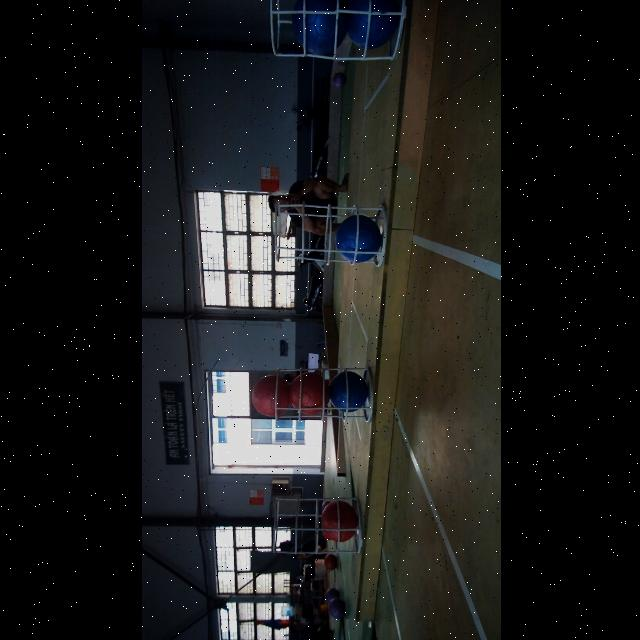B: (334, 215, 381, 263), (327, 372, 367, 412)
R: (249, 375, 289, 417), (290, 372, 328, 416), (320, 501, 356, 543)
